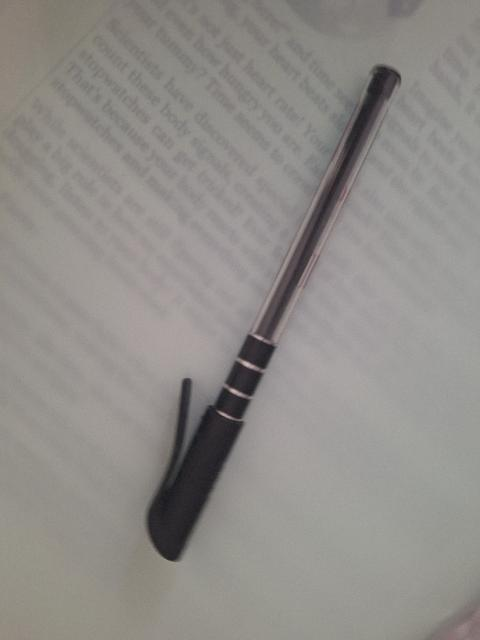writing_tool: (146, 69, 406, 560)
